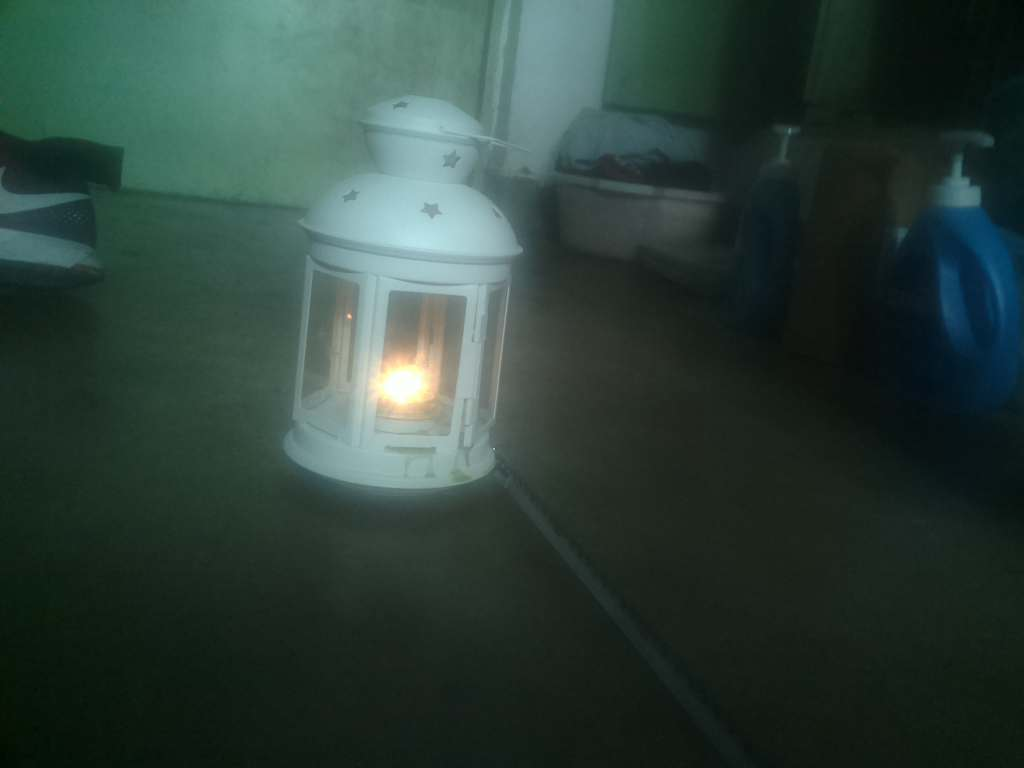fire: (338, 332, 460, 435)
